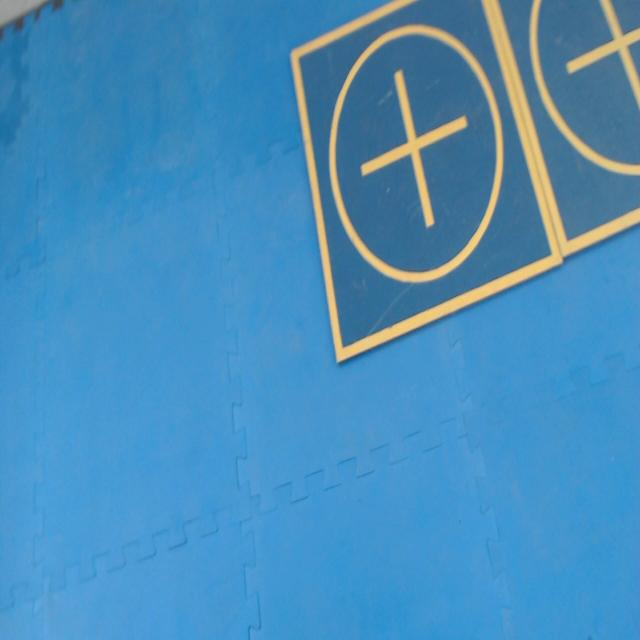base_pouso: (289, 0, 564, 362), (490, 0, 640, 263)
